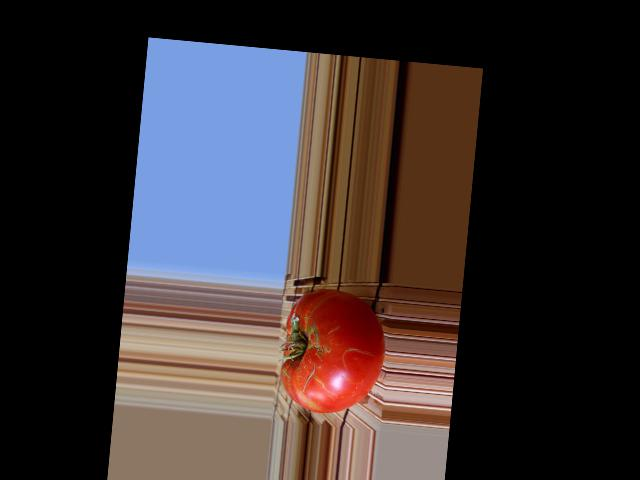tomato: (277, 285, 388, 417)
